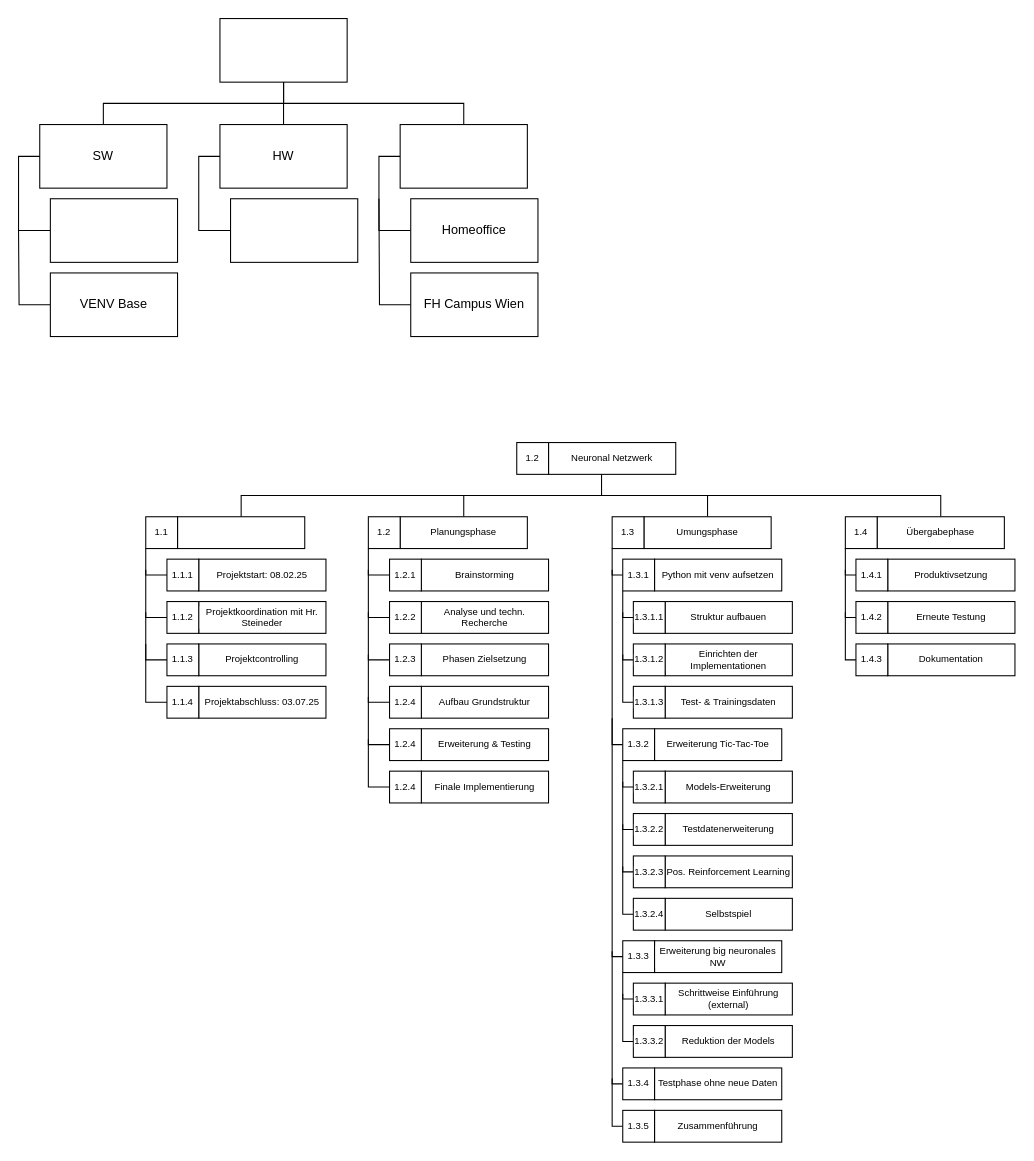
Image size: 1034x1161. Some labels were removed from this diagram. Here are the shapes that lost their labels. From the top down, the centre of each, then its label:
At point 283,49: "EDV-Umsetzung".
At point 463,155: "Infrastruktur".
At point 113,230: "Python / Pycharm".
At point 293,230: "PC".
At point 240,532: "Projektmanagement".
